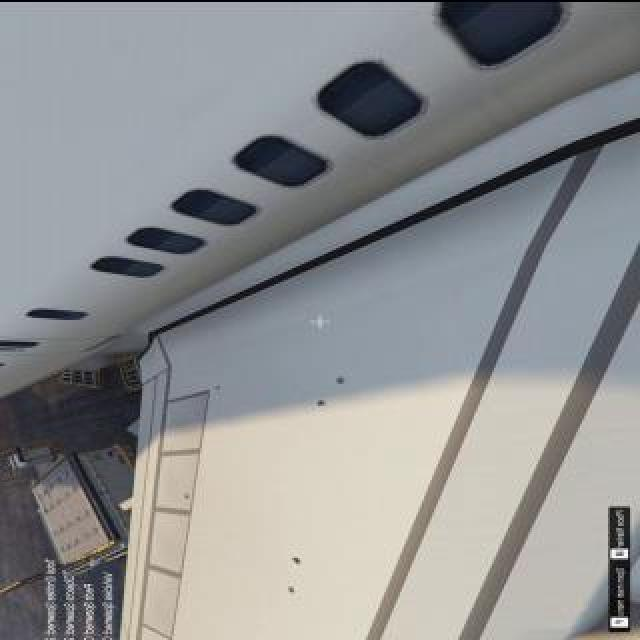crack: (287, 554, 307, 566), (334, 374, 350, 386), (314, 395, 330, 407), (284, 584, 300, 594), (181, 492, 193, 500), (212, 384, 224, 390)
